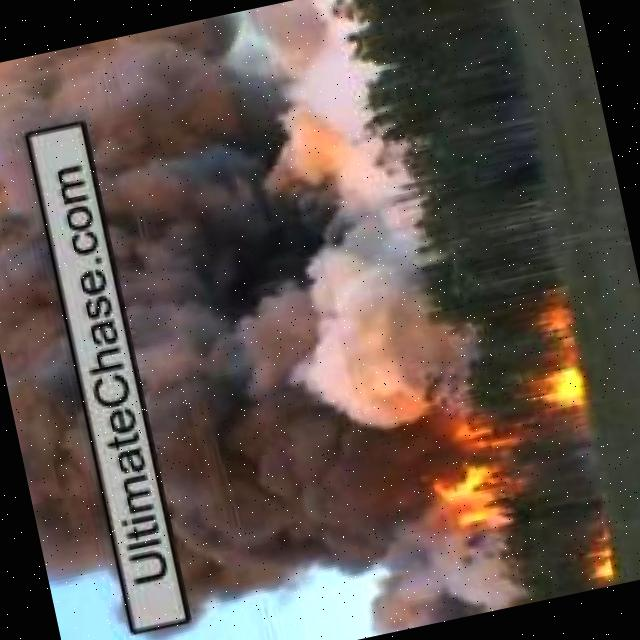fire: (413, 426, 513, 543), (571, 528, 621, 592), (529, 362, 588, 412), (535, 303, 577, 341)
